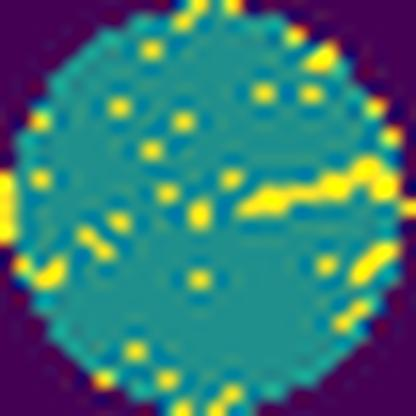Scratch: (229, 152, 403, 225)
